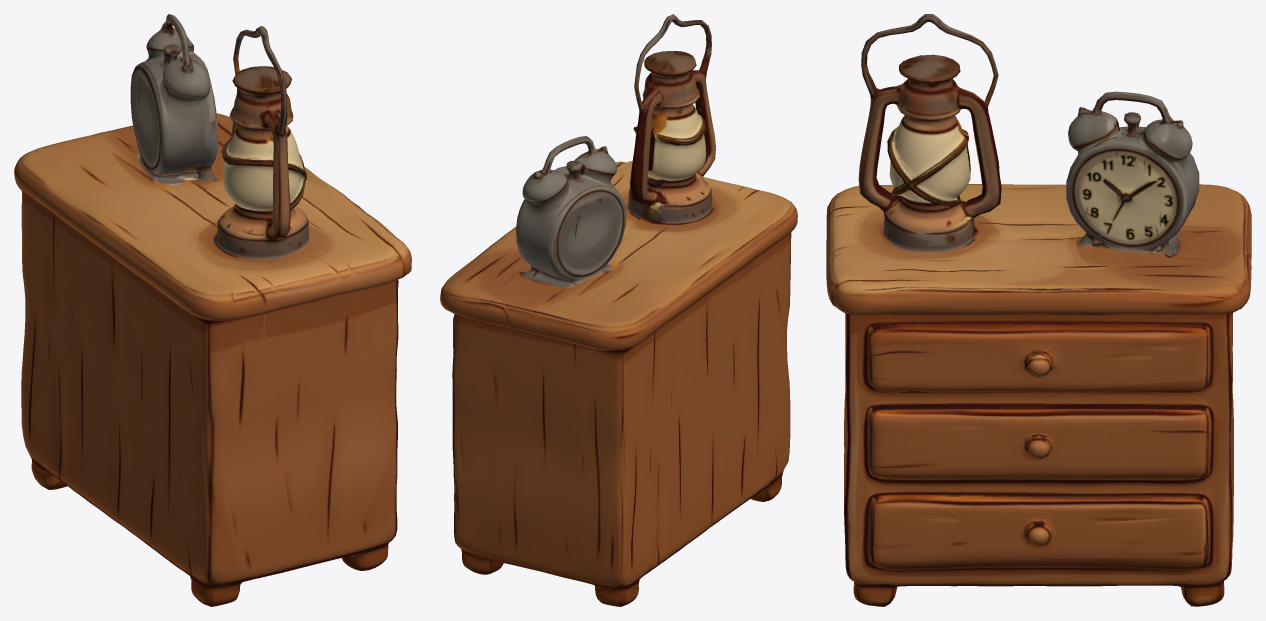
File: wooden+nightstand+3d+model.fbx
3 renders of one model, left to right at view 1: azimuth 30°, elevation 25°; view 2: azimuth 150°, elevation 25°; view 3: azimuth 270°, elevation 25°, orthographic. The views are drawn at different scales.
Visible parts, largest first — view 1: tripo_node_77ceaa1f; view 2: tripo_node_77ceaa1f; view 3: tripo_node_77ceaa1f.
Boxes of the visible parts, x1,y1,x2,y2 form: tripo_node_77ceaa1f: (14,14,411,606); tripo_node_77ceaa1f: (440,14,797,606); tripo_node_77ceaa1f: (826,14,1251,606).
Size of the model in its own units: 0.4456 by 0.9988 by 0.7002.
Materials: 1 (1 with a texture image).
